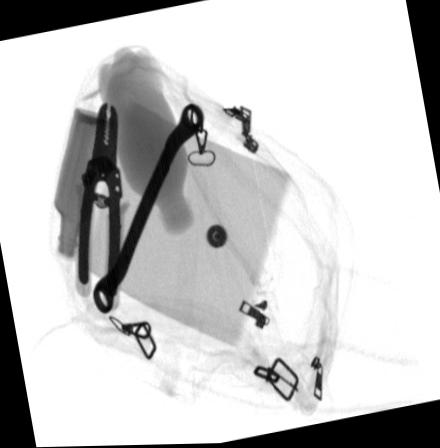Pliers: (74, 101, 120, 312)
Wrench: (92, 103, 206, 310)
